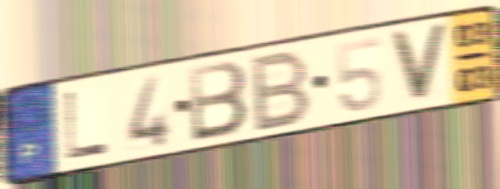4: (124, 74, 174, 151)
5: (334, 34, 384, 114)
B: (251, 46, 314, 136), (186, 58, 250, 145)
L: (62, 89, 111, 163)
V: (387, 21, 451, 104)
